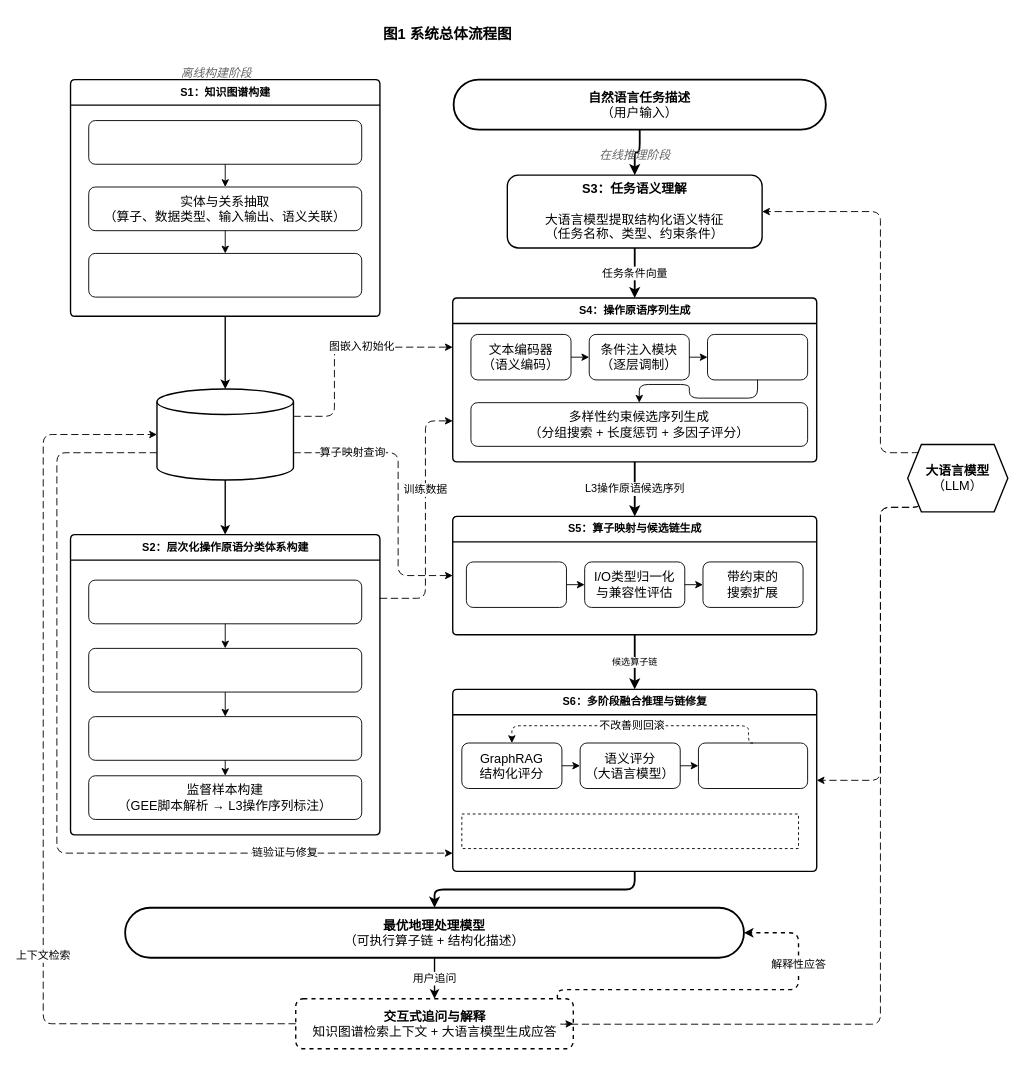
This 1024x1065 diagram has some shape labels left out. Here are the shapes that lost their labels. From the top down, the centre of each, then its label:
the point at 225,142: 多源GIS算子元数据获取 （QGIS、GEE、GRASS等）
the point at 225,275: 图数据库存储与管理
the point at 757,357: 序列生成解码器 （自回归生成）
the point at 225,434: 知识图谱 （图数据库）
the point at 225,601: 三级抽象分类体系设计 （L1大类 → L2子类 → L3操作原语）
the point at 515,584: 语义相似度 融合评分
the point at 225,669: 分类标准与命名规范
the point at 225,738: 多源算子到L3操作原语的 语义映射
the point at 753,765: 迭代链修复 （替代搜索+回滚）
the point at 630,831: 融合评分 = 结构化评分 × α + 语义评分 × (1 − α)
